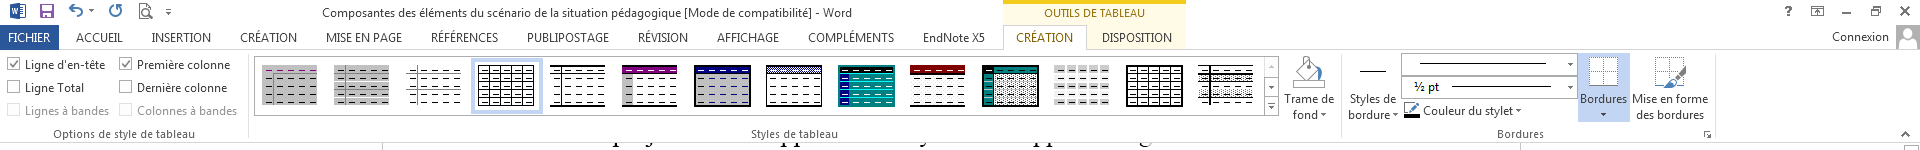texte: (1385, 102, 1521, 119), (320, 0, 394, 25), (740, 0, 811, 25), (1485, 87, 1523, 127), (1293, 52, 1322, 98), (140, 47, 182, 79), (10, 2, 94, 18), (186, 69, 227, 102), (1581, 93, 1708, 103), (1101, 0, 1144, 25), (489, 0, 530, 25), (1600, 109, 1703, 119), (1041, 0, 1079, 25), (613, 9, 680, 20), (809, 33, 894, 42), (1635, 81, 1657, 113), (528, 33, 609, 42), (1018, 30, 1071, 42), (327, 33, 400, 42), (1103, 33, 1171, 42), (432, 33, 498, 42), (1420, 63, 1573, 66), (1351, 93, 1396, 106), (1469, 87, 1483, 127), (718, 33, 778, 42), (924, 33, 984, 42), (140, 2, 171, 18), (152, 33, 211, 42), (1284, 93, 1333, 103), (241, 33, 296, 42), (1833, 32, 1888, 41), (140, 106, 186, 116), (26, 63, 40, 92), (997, 93, 1036, 105), (1387, 79, 1400, 113), (639, 33, 687, 42), (76, 33, 122, 42), (59, 60, 105, 69), (54, 130, 94, 140), (421, 9, 467, 17), (563, 9, 607, 17), (190, 60, 230, 69), (1349, 109, 1384, 119), (1498, 130, 1543, 138), (684, 9, 718, 18), (999, 10, 1007, 54), (1675, 93, 1708, 103), (1293, 109, 1326, 119), (1662, 81, 1671, 113), (1414, 77, 1429, 98), (1452, 86, 1573, 89), (156, 130, 193, 138), (800, 130, 838, 138), (752, 130, 779, 140), (58, 84, 83, 92), (146, 86, 181, 92), (138, 77, 148, 100), (816, 0, 824, 25), (10, 61, 51, 66), (115, 130, 136, 140), (109, 4, 122, 17), (92, 106, 108, 116), (997, 85, 1036, 89), (32, 86, 54, 92), (1811, 6, 1824, 16), (400, 9, 415, 17), (65, 84, 80, 92), (49, 109, 67, 116), (198, 77, 203, 100), (722, 9, 735, 17), (1085, 9, 1097, 17), (1900, 6, 1910, 16), (997, 77, 1036, 80), (1429, 84, 1439, 93), (473, 9, 482, 17), (99, 130, 110, 138), (549, 9, 557, 17), (842, 9, 851, 17), (785, 130, 795, 138), (1213, 70, 1220, 80), (1213, 93, 1220, 103), (143, 130, 151, 138), (1900, 132, 1910, 136), (535, 9, 540, 17), (36, 86, 40, 95), (1704, 132, 1711, 138), (122, 61, 130, 66), (1842, 12, 1851, 14), (1269, 86, 1273, 89), (1213, 86, 1220, 87)
